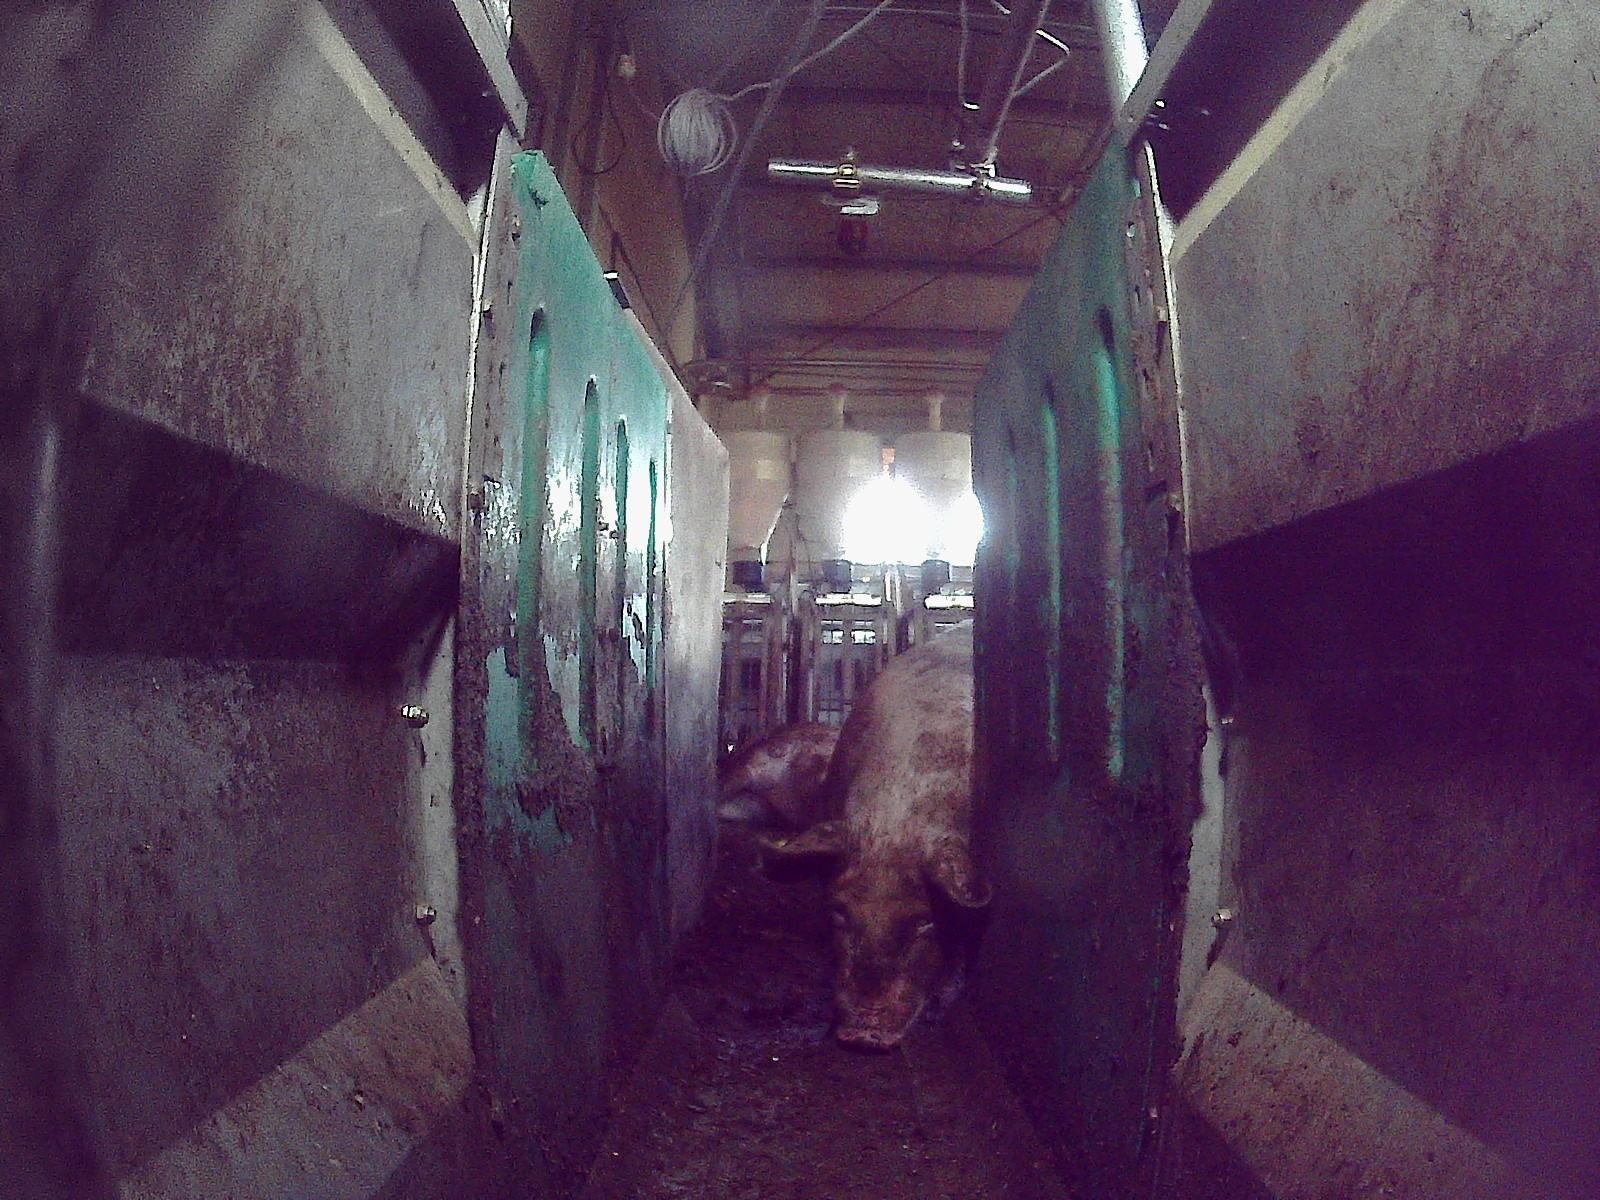Face: (823, 825, 973, 1045)
